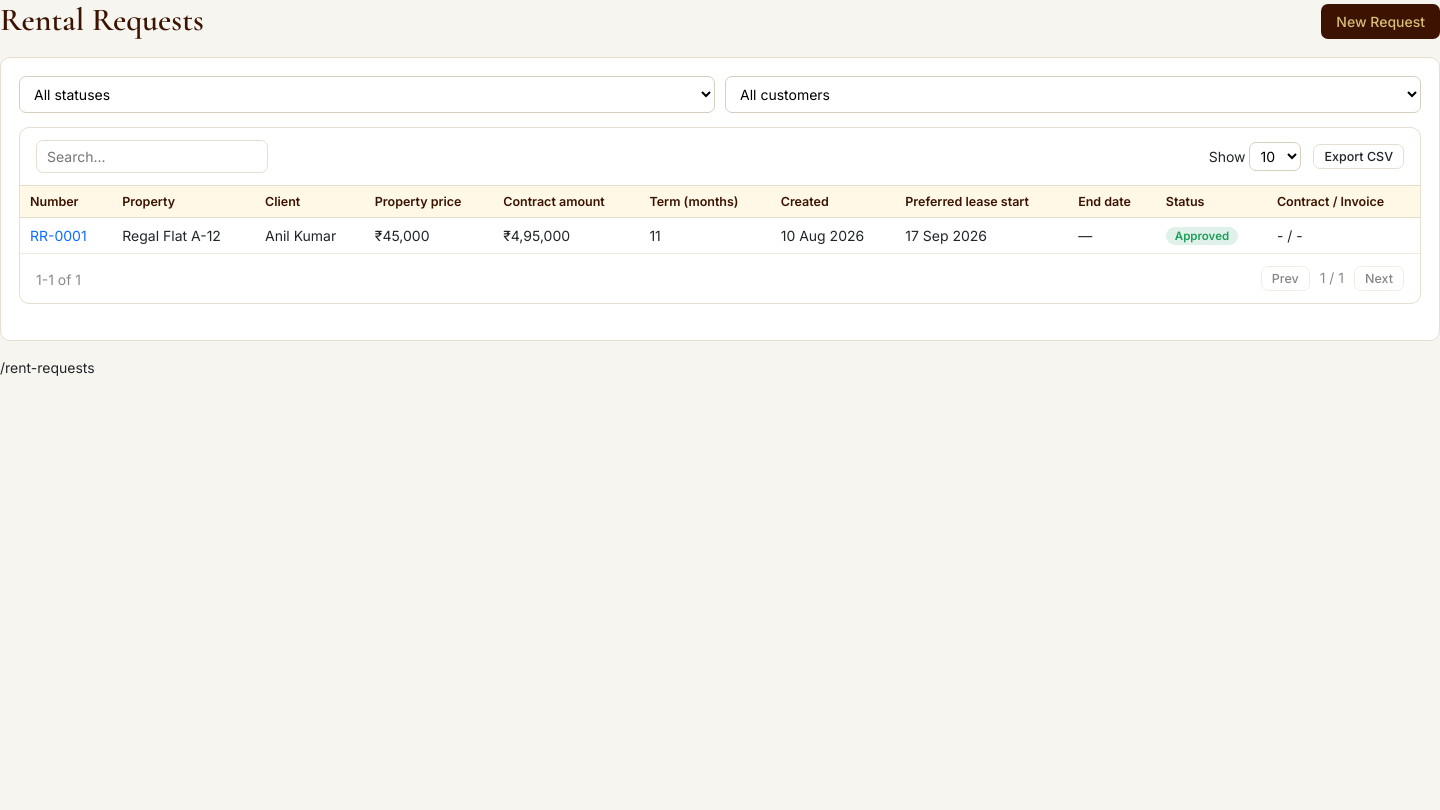
New Request modal (PLAN §7, §5) › rent: property select lists only approved Rent properties; has Term and "Preferred lease start"
Check: the link "RR-0001" is shown, box [30,227,87,244]
Click the button "New Request".
click(1381, 22)  # box [1321,4,1439,39]
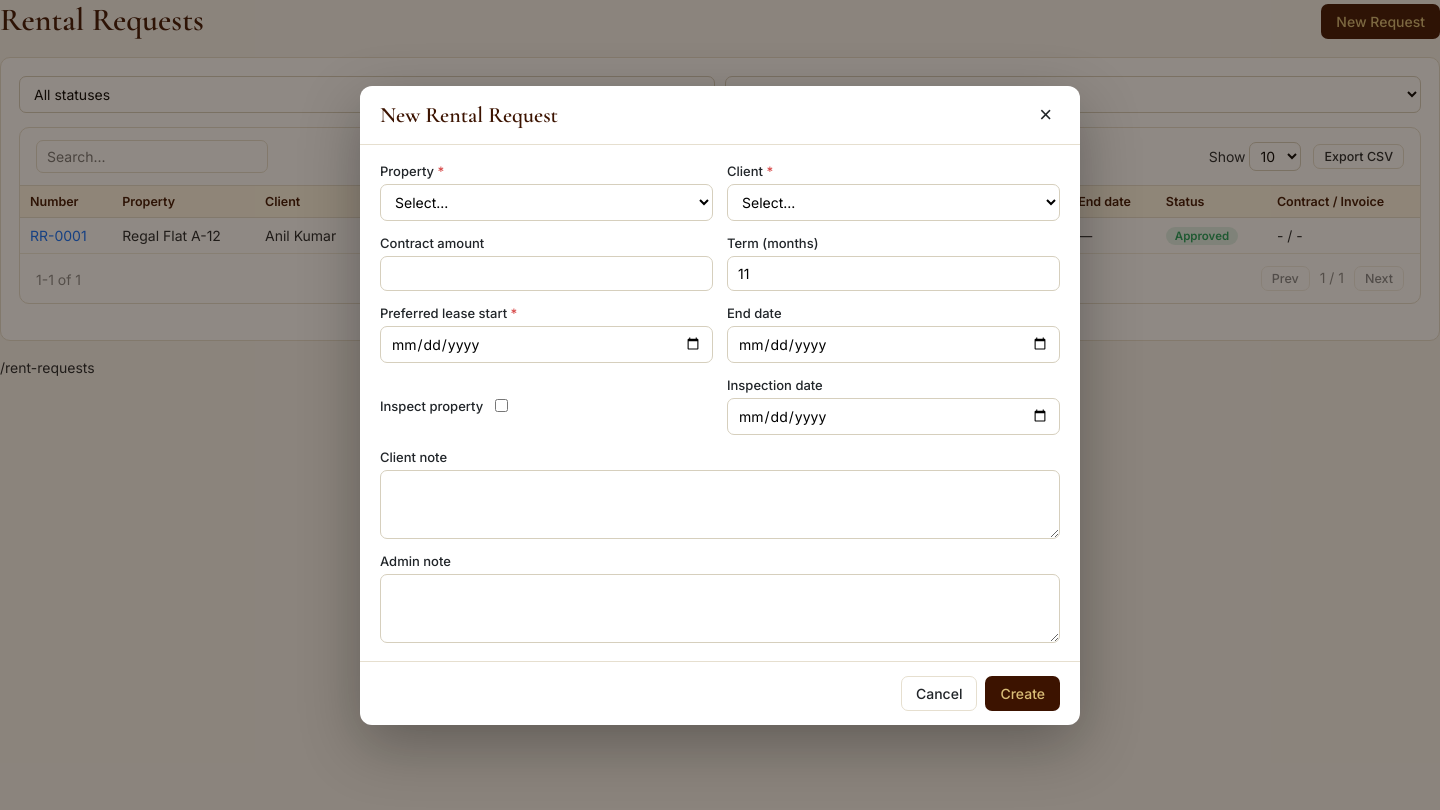
Check: the dialog is shown, box [360,86,1080,724]
Check: the heading "New Rental Request" is shown, box [380,102,558,128]
Check: the date field labelled "Preferred lease start *" is shown, box [380,326,713,362]
